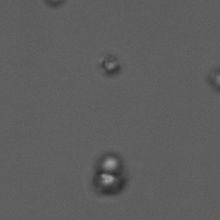Dead Cell: (99, 56, 119, 75)
Living Cell: (91, 169, 125, 194), (96, 153, 124, 172)
